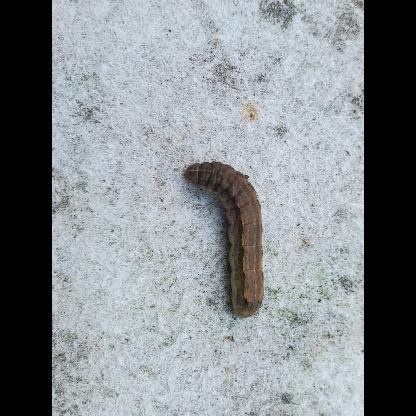Fall Armyworm Larvae: (180, 159, 268, 321)
